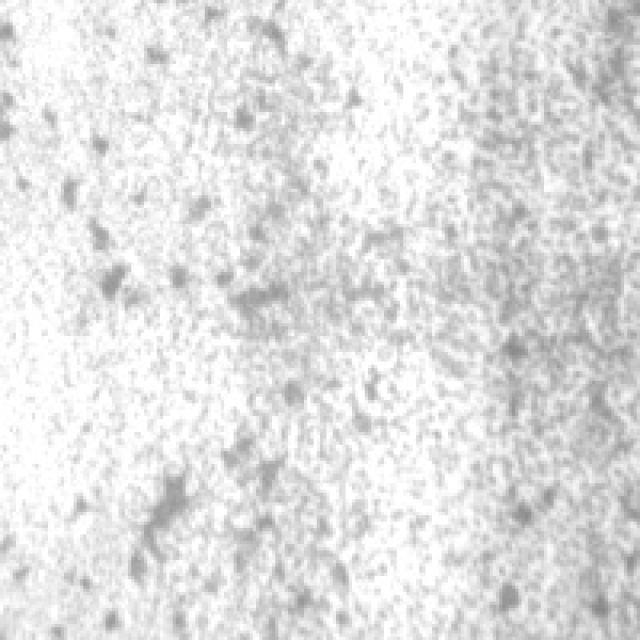pitted_surface: (35, 3, 634, 630)
